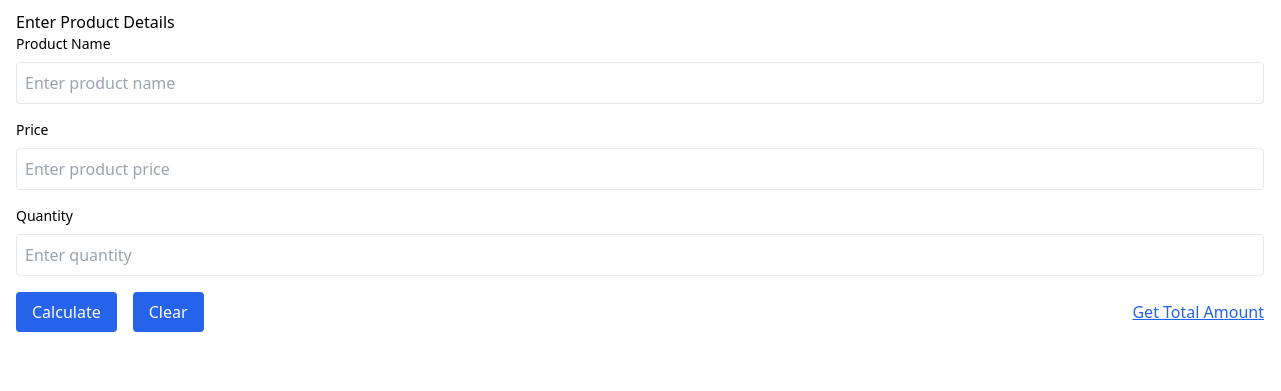
Tests for Product Detail Component › calculates total amount on form submit
Type "Product A" into the field with placeholder "Enter product name" at point(640, 83), box [16,62,1264,104]
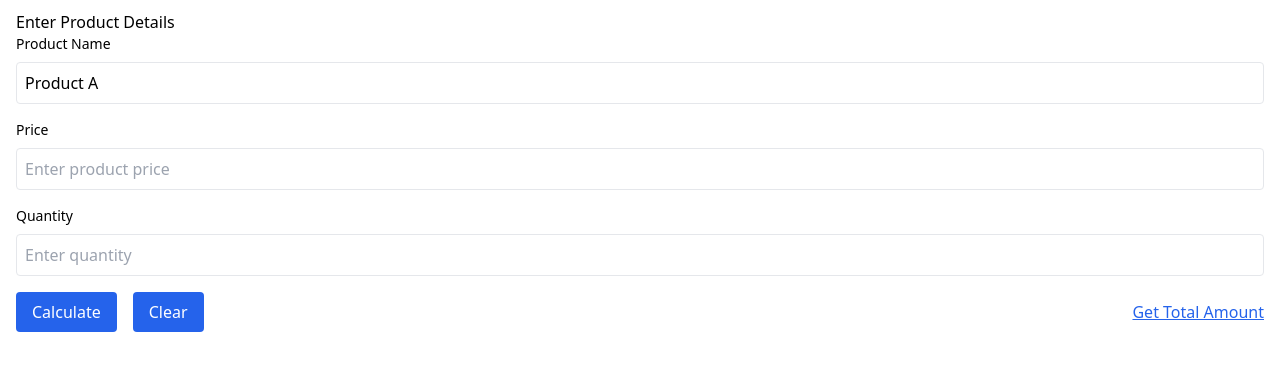
Type "100" into the number field with placeholder "Enter product price" at point(640, 169), box [16,148,1264,190]
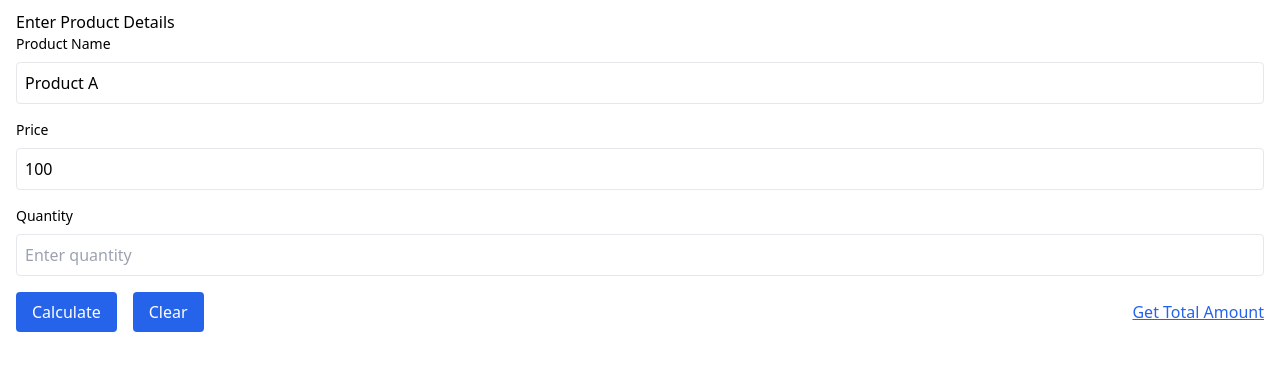
Type "2" into the number field with placeholder "Enter quantity" at point(640, 255), box [16,234,1264,276]
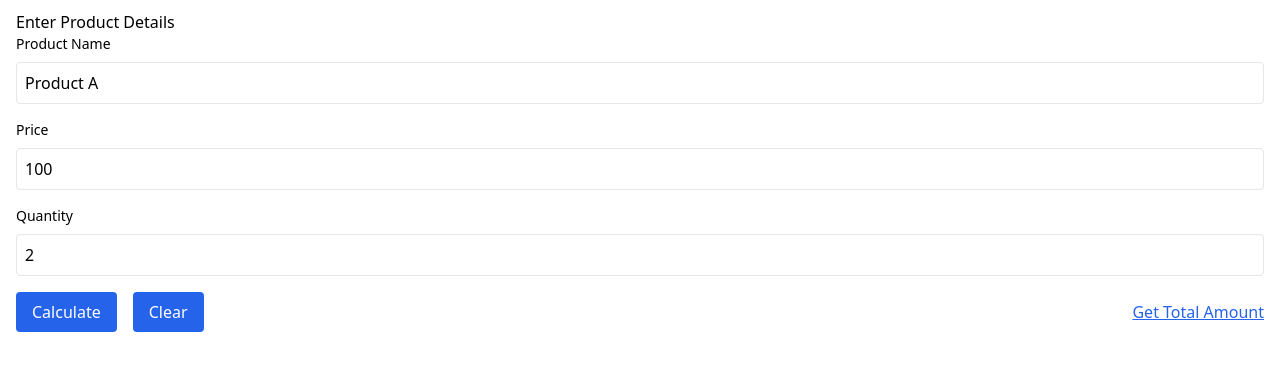
Click the button "Calculate" at point(66, 312), box [16,292,117,332]
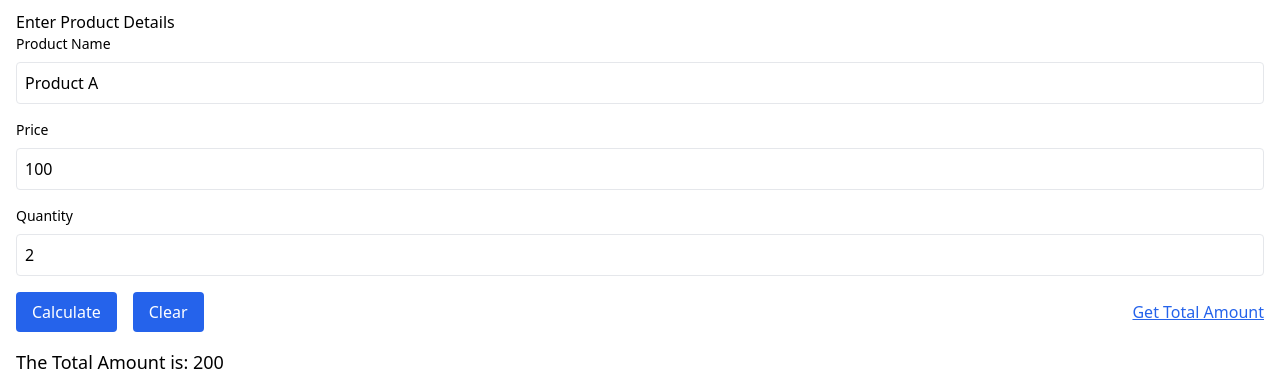
Now the text "The Total Amount is: 200" is shown, box [16,350,224,374]
